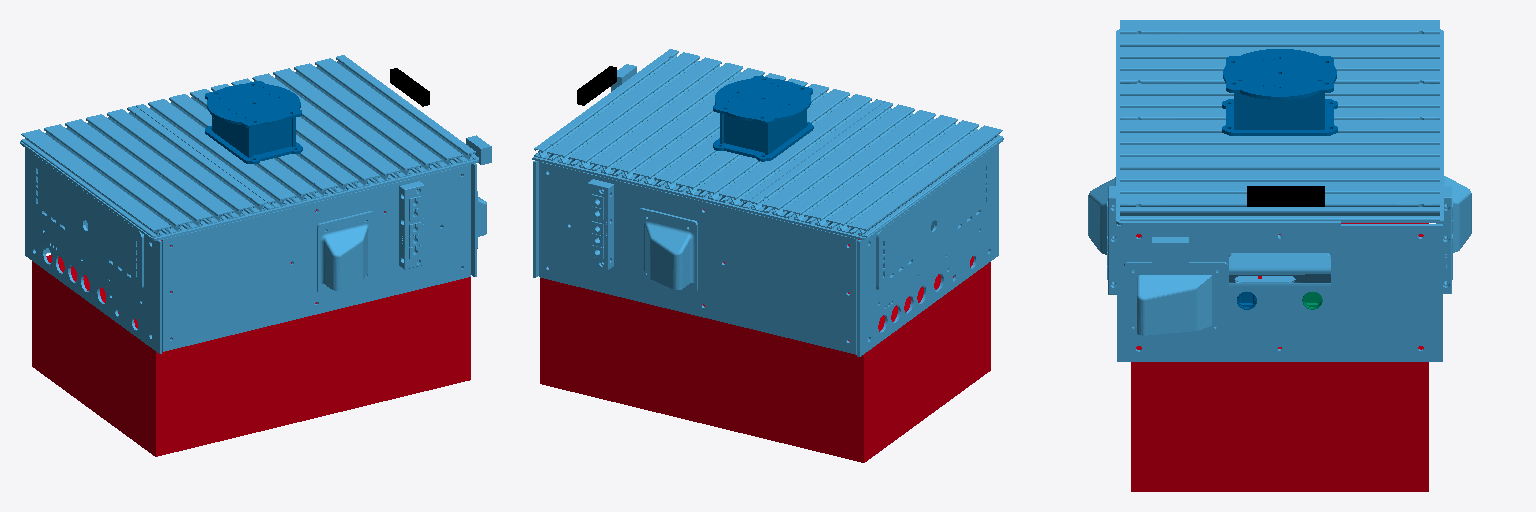
--- Facts derived from the render (not from the file) ---
3 views of the same robot in one strip: view 1: azimuth 30°, elevation 25°; view 2: azimuth 150°, elevation 25°; view 3: azimuth 270°, elevation 25° (orthographic).
Robot: smb — 25 links, 24 joints (4 continuous, 20 fixed); root link base_link; default pose: every joint at zero.
Visible links, largest first — view 1: top, base_link, lidar_mount_link, realsense_t265; view 2: top, base_link, lidar_mount_link, realsense_t265; view 3: top, base_link, lidar_mount_link, realsense_t265, mono_link.
Link boxes in pixels (left/top/right/bottom): top: left=20, top=55, right=486, bottom=353; base_link: left=32, top=209, right=470, bottom=456; lidar_mount_link: left=205, top=81, right=302, bottom=163; realsense_t265: left=390, top=68, right=429, bottom=106; top: left=532, top=49, right=1003, bottom=356; base_link: left=540, top=209, right=990, bottom=462; lidar_mount_link: left=713, top=76, right=813, bottom=161; realsense_t265: left=577, top=66, right=616, bottom=105; top: left=1088, top=20, right=1471, bottom=361; base_link: left=1131, top=223, right=1428, bottom=491; lidar_mount_link: left=1222, top=49, right=1337, bottom=135; realsense_t265: left=1247, top=186, right=1324, bottom=206; mono_link: left=1152, top=237, right=1188, bottom=262.
Bounding box of the posed robot: 0.678 × 0.5258 × 0.495 m (x, y, z).
Meshes: 8 distinct files referenced, 7 mesh visuals loaded (4 Collada DAE); not drawn: 7 (reference not matched to a file when rendering).

robot.urdf — smb:
<?xml version="1.0" ?>
<!-- =================================================================================== -->
<!-- |    This document was autogenerated by xacro from [local-path]/catkin_workspaces/smb_ws/src/smb_common/smb_description/urdf/smb_standalone.urdf.xacro | -->
<!-- |    EDITING THIS FILE BY HAND IS NOT RECOMMENDED                                 | -->
<!-- =================================================================================== -->
<robot name="smb">
  <!-- Materials -->
  <material name="black">
    <color rgba="0 0 0 1.0"/>
  </material>
  <material name="dark_grey">
    <color rgba="0 0 0 0.6078431372549019 1.0"/>
  </material>
  <material name="blue">
    <color rgba="0 0 0.7843137254901961 1.0"/>
  </material>
  <material name="green">
    <color rgba="0 0.7843137254901961 0 1.0"/>
  </material>
  <material name="grey">
    <color rgba="0.19607843137254902 0.19607843137254902 0.19607843137254902 1.0"/>
  </material>
  <material name="orange">
    <color rgba="1.0 0.4235294117647059 0.0392156862745098 1.0"/>
  </material>
  <material name="brown">
    <color rgba="0.8705882352941177 0.8117647058823529 0.7647058823529411 1.0"/>
  </material>
  <material name="red">
    <color rgba="0.7843137254901961 0 0 1.0"/>
  </material>
  <material name="white">
    <color rgba="1.0 1.0 1.0 1.0"/>
  </material>
  <!-- t265_origin_xyz is the offset to the parent link -->
  <!-- t265_origin_rpy is the fixed axis roll, pitch and yaw angle such that the resulting frame has
       the x axis pointing forward ("out of camera"),
       the y axis pointing left and the z axis pointing upward -->
  <!-- another frame "realsense_t265_odom_frame is created that is in line with the one documented here:
       https://www.intel.com/content/dam/support/us/en/documents/emerging-technologies/intel-realsense-technology/IntelRealSenseTrackingT265Datasheet.pdf -->
  <link name="base_link">
    <collision>
      <origin rpy="0 0 0" xyz="0 0 0"/>
      <geometry>
        <box size="0.605 0.41 0.197"/>
      </geometry>
    </collision>
    <visual>
      <origin rpy="0 0 0" xyz="0 0 0"/>
      <geometry>
        <box size="0.605 0.41 0.197"/>
      </geometry>
      <material name="base_material">
        <color rgba="0.8 0.0 0.1 1.0"/>
      </material>
    </visual>
  </link>
  <link name="top">
    <collision>
      <origin rpy="0 0 0" xyz="-0.07 0 0"/>
      <geometry>
        <!-- <box size="${topLength} ${topWidth} ${topHeight}"/> -->
        <mesh filename="package://smb_description/urdf/new_payload/meshes/SMB_step.dae"/>
      </geometry>
    </collision>
    <visual>
      <origin rpy="0 0 0" xyz="0 0 0"/>
      <geometry>
        <!-- <box size="${topLength} ${topWidth} ${topHeight}"/> -->
        <mesh filename="package://smb_description/urdf/new_payload/meshes/SMB_step.dae"/>
      </geometry>
    </visual>
  </link>
  <gazebo reference="top">
    <material>Gazebo/Grey</material>
  </gazebo>
  <gazebo reference="base_link">
    <material>Gazebo/Red</material>
  </gazebo>
  <joint name="top_to_base_link" type="fixed">
    <parent link="base_link"/>
    <child link="top"/>
    <!-- <origin xyz="${topXOffset/2.0} 0.0 ${chassisHeight/2.0 + topHeight/2.0}" rpy="0 0 0"/> -->
    <origin rpy="0 0 0" xyz="0.0 0.0 0.0985"/>
  </joint>
  <!-- Fixed joint to add dummy inertia link -->
  <joint name="base_to_base_inertia" type="fixed">
    <parent link="base_link"/>
    <child link="base_inertia"/>
    <origin rpy="0 0 0" xyz="0 0 0"/>
  </joint>
  <!-- Dummy inertia link, because KDL cannot have inertia on the base link -->
  <link name="base_inertia">
    <inertial>
      <origin rpy="0 0 0" xyz="0 0 0"/>
      <mass value="40"/>
      <inertia ixx="0.6896966666666665" ixy="0" ixz="0" iyy="1.3494466666666665" iyz="0" izz="1.3494466666666665"/>
    </inertial>
  </link>
  <joint name="LF_WHEEL_JOINT" type="continuous">
    <parent link="base_link"/>
    <child link="LF_WHEEL"/>
    <origin rpy="-1.5707963267948966 0 0" xyz="0.2159 0.285 -0.018500000000000003"/>
    <axis rpy="0 0 0" xyz="0 0 1"/>
    <dynamics damping="1.0" friction="0.0"/>
    <limit effort="100" velocity="10"/>
    <joint_properties damping="0.2" friction="0.2"/>
  </joint>
  <link name="LF_WHEEL">
    <collision>
      <origin rpy="0 0 0" xyz="0 0 0"/>
      <geometry>
        <cylinder length="0.01" radius="0.19"/>
      </geometry>
    </collision>
    <visual>
      <origin rpy="1.570796 0  0" xyz="0 0 0"/>
      <geometry>
        <mesh filename="package://smb_description/urdf/meshes/wheel.dae"/>
      </geometry>
    </visual>
    <inertial>
      <origin rpy="0 0 0" xyz="0 0 0"/>
      <mass value="5"/>
      <inertia ixx="0.04929166666666668" ixy="0" ixz="0" iyy="0.04929166666666668" iyz="0" izz="0.09025"/>
    </inertial>
  </link>
  <gazebo reference="LF_WHEEL">
    <mu1 value="0.5"/>
    <mu2 value="0.5"/>
    <fdir1 value="1 0 0"/>
    <kp>10000000.0</kp>
    <kd>1.0</kd>
    <minDepth>0.005</minDepth>
    <maxVel>100.0</maxVel>
    <material>Gazebo/DarkGrey</material>
  </gazebo>
  <transmission name="LF_WHEEL_TRANS">
    <type>transmission_interface/SimpleTransmission</type>
    <joint name="LF_WHEEL_JOINT">
      <hardwareInterface>hardware_interface/VelocityJointInterface</hardwareInterface>
      <hardwareInterface>hardware_interface/EffortJointInterface</hardwareInterface>
      <hardwareInterface>hardware_interface/PositionJointInterface</hardwareInterface>
    </joint>
    <actuator name="LF_WHEEL_ACTUATOR">
      <hardwareInterface>hardware_interface/VelocityJointInterface</hardwareInterface>
      <hardwareInterface>hardware_interface/EffortJointInterface</hardwareInterface>
      <hardwareInterface>hardware_interface/PositionJointInterface</hardwareInterface>
      <mechanicalReduction>1</mechanicalReduction>
    </actuator>
  </transmission>
  <joint name="RF_WHEEL_JOINT" type="continuous">
    <parent link="base_link"/>
    <child link="RF_WHEEL"/>
    <origin rpy="-1.5707963267948966 0 0" xyz="0.2159 -0.285 -0.018500000000000003"/>
    <axis rpy="0 0 0" xyz="0 0 1"/>
    <dynamics damping="1.0" friction="0.0"/>
    <limit effort="100" velocity="10"/>
    <joint_properties damping="0.2" friction="0.2"/>
  </joint>
  <link name="RF_WHEEL">
    <collision>
      <origin rpy="0 0 0" xyz="0 0 0"/>
      <geometry>
        <cylinder length="0.01" radius="0.19"/>
      </geometry>
    </collision>
    <visual>
      <origin rpy="1.570796 0  0" xyz="0 0 0"/>
      <geometry>
        <mesh filename="package://smb_description/urdf/meshes/wheel.dae"/>
      </geometry>
    </visual>
    <inertial>
      <origin rpy="0 0 0" xyz="0 0 0"/>
      <mass value="5"/>
      <inertia ixx="0.04929166666666668" ixy="0" ixz="0" iyy="0.04929166666666668" iyz="0" izz="0.09025"/>
    </inertial>
  </link>
  <gazebo reference="RF_WHEEL">
    <mu1 value="0.5"/>
    <mu2 value="0.5"/>
    <fdir1 value="1 0 0"/>
    <kp>10000000.0</kp>
    <kd>1.0</kd>
    <minDepth>0.005</minDepth>
    <maxVel>100.0</maxVel>
    <material>Gazebo/DarkGrey</material>
  </gazebo>
  <transmission name="RF_WHEEL_TRANS">
    <type>transmission_interface/SimpleTransmission</type>
    <joint name="RF_WHEEL_JOINT">
      <hardwareInterface>hardware_interface/VelocityJointInterface</hardwareInterface>
      <hardwareInterface>hardware_interface/EffortJointInterface</hardwareInterface>
      <hardwareInterface>hardware_interface/PositionJointInterface</hardwareInterface>
    </joint>
    <actuator name="RF_WHEEL_ACTUATOR">
      <hardwareInterface>hardware_interface/VelocityJointInterface</hardwareInterface>
      <hardwareInterface>hardware_interface/EffortJointInterface</hardwareInterface>
      <hardwareInterface>hardware_interface/PositionJointInterface</hardwareInterface>
      <mechanicalReduction>1</mechanicalReduction>
    </actuator>
  </transmission>
  <joint name="LH_WHEEL_JOINT" type="continuous">
    <parent link="base_link"/>
    <child link="LH_WHEEL"/>
    <origin rpy="-1.5707963267948966 0 0" xyz="-0.2159 0.285 -0.018500000000000003"/>
    <axis rpy="0 0 0" xyz="0 0 1"/>
    <dynamics damping="1.0" friction="0.0"/>
    <limit effort="100" velocity="10"/>
    <joint_properties damping="0.2" friction="0.2"/>
  </joint>
  <link name="LH_WHEEL">
    <collision>
      <origin rpy="0 0 0" xyz="0 0 0"/>
      <geometry>
        <cylinder length="0.01" radius="0.19"/>
      </geometry>
    </collision>
    <visual>
      <origin rpy="1.570796 0  0" xyz="0 0 0"/>
      <geometry>
        <mesh filename="package://smb_description/urdf/meshes/wheel.dae"/>
      </geometry>
    </visual>
    <inertial>
      <origin rpy="0 0 0" xyz="0 0 0"/>
      <mass value="5"/>
      <inertia ixx="0.04929166666666668" ixy="0" ixz="0" iyy="0.04929166666666668" iyz="0" izz="0.09025"/>
    </inertial>
  </link>
  <gazebo reference="LH_WHEEL">
    <mu1 value="0.0"/>
    <mu2 value="0.0"/>
    <fdir1 value="1 0 0"/>
    <kp>10000000.0</kp>
    <kd>1.0</kd>
    <minDepth>0.005</minDepth>
    <maxVel>100.0</maxVel>
    <material>Gazebo/DarkGrey</material>
  </gazebo>
  <transmission name="LH_WHEEL_TRANS">
    <type>transmission_interface/SimpleTransmission</type>
    <joint name="LH_WHEEL_JOINT">
      <hardwareInterface>hardware_interface/VelocityJointInterface</hardwareInterface>
      <hardwareInterface>hardware_interface/EffortJointInterface</hardwareInterface>
      <hardwareInterface>hardware_interface/PositionJointInterface</hardwareInterface>
    </joint>
    <actuator name="LH_WHEEL_ACTUATOR">
      <hardwareInterface>hardware_interface/VelocityJointInterface</hardwareInterface>
      <hardwareInterface>hardware_interface/EffortJointInterface</hardwareInterface>
      <hardwareInterface>hardware_interface/PositionJointInterface</hardwareInterface>
      <mechanicalReduction>1</mechanicalReduction>
    </actuator>
  </transmission>
  <joint name="RH_WHEEL_JOINT" type="continuous">
    <parent link="base_link"/>
    <child link="RH_WHEEL"/>
    <origin rpy="-1.5707963267948966 0 0" xyz="-0.2159 -0.285 -0.018500000000000003"/>
    <axis rpy="0 0 0" xyz="0 0 1"/>
    <dynamics damping="1.0" friction="0.0"/>
    <limit effort="100" velocity="10"/>
    <joint_properties damping="0.2" friction="0.2"/>
  </joint>
  <link name="RH_WHEEL">
    <collision>
      <origin rpy="0 0 0" xyz="0 0 0"/>
      <geometry>
        <cylinder length="0.01" radius="0.19"/>
      </geometry>
    </collision>
    <visual>
      <origin rpy="1.570796 0  0" xyz="0 0 0"/>
      <geometry>
        <mesh filename="package://smb_description/urdf/meshes/wheel.dae"/>
      </geometry>
    </visual>
    <inertial>
      <origin rpy="0 0 0" xyz="0 0 0"/>
      <mass value="5"/>
      <inertia ixx="0.04929166666666668" ixy="0" ixz="0" iyy="0.04929166666666668" iyz="0" izz="0.09025"/>
    </inertial>
  </link>
  <gazebo reference="RH_WHEEL">
    <mu1 value="0.2"/>
    <mu2 value="0.2"/>
    <fdir1 value="1 0 0"/>
    <kp>10000000.0</kp>
    <kd>1.0</kd>
    <minDepth>0.005</minDepth>
    <maxVel>100.0</maxVel>
    <material>Gazebo/DarkGrey</material>
  </gazebo>
  <transmission name="RH_WHEEL_TRANS">
    <type>transmission_interface/SimpleTransmission</type>
    <joint name="RH_WHEEL_JOINT">
      <hardwareInterface>hardware_interface/VelocityJointInterface</hardwareInterface>
      <hardwareInterface>hardware_interface/EffortJointInterface</hardwareInterface>
      <hardwareInterface>hardware_interface/PositionJointInterface</hardwareInterface>
    </joint>
    <actuator name="RH_WHEEL_ACTUATOR">
      <hardwareInterface>hardware_interface/VelocityJointInterface</hardwareInterface>
      <hardwareInterface>hardware_interface/EffortJointInterface</hardwareInterface>
      <hardwareInterface>hardware_interface/PositionJointInterface</hardwareInterface>
      <mechanicalReduction>1</mechanicalReduction>
    </actuator>
  </transmission>
  <gazebo>
    <plugin filename="libhector_gazebo_ros_imu.so" name="smb_imu_plugin">
      <updateRate>400</updateRate>
      <bodyName>imu_link</bodyName>
      <frameId>imu_link</frameId>
      <topicName>/imu0</topicName>
      <serviceName>/imu/calibrate</serviceName>
      <accelOffset>0.0 0.0 0.0</accelOffset>
      <accelDrift>0.0 0.0 0.0</accelDrift>
      <accelDriftFrequency>0.0 0.0 0.0</accelDriftFrequency>
      <accelGaussianNoise>0.0 0.0 0.0</accelGaussianNoise>
      <rateOffset>0.0 0.0 0.0</rateOffset>
      <rateDrift>0.0 0.0 0.0</rateDrift>
      <rateDriftFrequency>0.0 0.0 0.0</rateDriftFrequency>
      <rateGaussianNoise>0.0 0.0 0.0</rateGaussianNoise>
      <headingOffset>0.0</headingOffset>
      <headingDrift>0.0</headingDrift>
      <headingDriftFrequency>0.0</headingDriftFrequency>
      <headingGaussianNoise>0.0</headingGaussianNoise>
    </plugin>
  </gazebo>
  <!-- Imu is fixed to the base link -->
  <joint name="imu_joint" type="fixed">
    <origin rpy="0 0 0" xyz="0.2554 -0.02397 0.1795"/>
    <parent link="base_link"/>
    <child link="imu_link"/>
  </joint>
  <!-- Imu link -->
  <link name="imu_link">
    <inertial>
      <mass value="0.001"/>
      <origin rpy="0 0 0" xyz="0 0 0"/>
      <inertia ixx="0.0001" ixy="0" ixz="0" iyy="0.000001" iyz="0" izz="0.0001"/>
    </inertial>
    <visual>
      <origin rpy="0 0 0" xyz="0 0 0"/>
      <geometry>
        <!-- <box size="0.04 0.05 0.02"/> -->
        <mesh filename="package://smb_description/urdf/new_payload/meshes/SMB_imu.dae"/>
      </geometry>
    </visual>
    <collision>
      <origin rpy="0 0 0" xyz="0 0 0"/>
      <geometry>
        <!-- <box size=".001 .001 .001"/> -->
        <mesh filename="package://smb_description/urdf/new_payload/meshes/SMB_imu.dae"/>
      </geometry>
    </collision>
    <material name="orange">
      <color rgba="255 108 10 255"/>
    </material>
  </link>
  <link name="imu">
    <inertial>
      <mass value="0.001"/>
      <origin rpy="0 0 0" xyz="0 0 0"/>
      <inertia ixx="0.0001" ixy="0" ixz="0" iyy="0.000001" iyz="0" izz="0.0001"/>
    </inertial>
  </link>
  <joint name="imu_imu_link_joint" type="fixed">
    <origin rpy="0 0 0" xyz="0 0 0"/>
    <parent link="imu_link"/>
    <child link="imu"/>
  </joint>
  <gazebo reference="imu_link">
    <material>Gazebo/Orange</material>
  </gazebo>
  <gazebo reference="imu_joint">
    <disableFixedJointLumping>true</disableFixedJointLumping>
  </gazebo>
  <!-- <xacro:GPS base_link="${base_link_name}" simulation="${simulation}"/> -->
  <link name="mono_link">
    <inertial>
      <mass value="0.01"/>
      <!-- [kg] -->
      <inertia ixx="1e-5" ixy="0" ixz="0" iyy="1e-5" iyz="0" izz="1e-5"/>
    </inertial>
    <visual>
      <geometry>
        <box size="0.02 0.05 0.03"/>
      </geometry>
    </visual>
    <collision>
      <geometry>
        <box size="0.02 0.05 0.03"/>
      </geometry>
    </collision>
    <material name="red">
      <color rgba="255 0 10 255"/>
    </material>
  </link>
  <gazebo reference="mono_link">
    <material>Gazebo/Red</material>
  </gazebo>
  <joint name="mono_camera_joint" type="fixed">
    <origin rpy="0 0 0" xyz="0.35 -0.15 0.29"/>
    <parent link="base_link"/>
    <child link="mono_link"/>
  </joint>
  <gazebo reference="mono_camera_joint">
    <disableFixedJointLumping>true</disableFixedJointLumping>
  </gazebo>
  <gazebo reference="mono_link">
    <sensor name="mono_cam" type="camera">
      <pose>0 0 0 0 0 0</pose>
      <visualize>false</visualize>
      <update_rate>30</update_rate>
      <camera>
        <horizontal_fov>1.3962634</horizontal_fov>
        <!-- 80 deg-->
         &gt;
          
        <image>
          <width>640</width>
          <height>480</height>
          <format>R8G8B8</format>
        </image>
        <clip>
          <near>0.01</near>
          <far>100</far>
        </clip>
        <noise>
          <type>gaussian</type>
          <!-- Noise parameters based on published spec for Hokuyo laser
                achieving "+-30mm" accuracy at range < 10m.  A mean of 0.0m and
                stddev of 0.01m will put 99.7% of samples within 0.03m of the true
                reading. -->
          <mean>0.0</mean>
          <stddev>0.007</stddev>
        </noise>
      </camera>
      <plugin filename="libgazebo_ros_camera.so" name="gazebo_ros_camera_controller">
        <alwaysOn>true</alwaysOn>
        <updateRate>0.0</updateRate>
        <cameraName>mono_cam</cameraName>
        <imageTopicName>/mono/cam0/image_raw</imageTopicName>
        <cameraInfoTopicName>camera_info</cameraInfoTopicName>
        <frameName>mono_link</frameName>
        <hackBaseline>0.07</hackBaseline>
        <distortionK1>0.0</distortionK1>
        <distortionK2>0.0</distortionK2>
        <distortionK3>0.0</distortionK3>
        <distortionT1>0.0</distortionT1>
        <distortionT2>0.0</distortionT2>
      </plugin>
    </sensor>
  </gazebo>
  <link name="blackfly0_link">
    <inertial>
      <mass value="0.01"/>
      <!-- [kg] -->
      <inertia ixx="1e-5" ixy="0" ixz="0" iyy="1e-5" iyz="0" izz="1e-5"/>
    </inertial>
    <visual>
      <geometry>
        <mesh filename="package://smb_description/urdf/new_payload/meshes/SMB_blackfly_camera.dae"/>
      </geometry>
    </visual>
    <collision>
      <geometry>
        <mesh filename="package://smb_description/urdf/new_payload/meshes/SMB_blackfly_camera.dae"/>
      </geometry>
    </collision>
    <material name="red">
      <color rgba="255 0 10 255"/>
    </material>
  </link>
  <gazebo reference="blackfly0_link">
    <material>Gazebo/Red</material>
  </gazebo>
  <joint name="blackfly0_camera_joint" type="fixed">
    <!-- <origin xyz="${blackfly_origin_xyz}" rpy="${blackfly_origin_rpy}"/> -->
    <origin rpy="0 0 0" xyz="0.29082 0.04458 0.194"/>
    <parent link="base_link"/>
    <child link="blackfly0_link"/>
  </joint>
  <gazebo reference="blackfly0_camera_joint">
    <disableFixedJointLumping>true</disableFixedJointLumping>
  </gazebo>
  <link name="blackfly0_optical_link"/>
  <joint name="blackfly0_camera_optical_joint" type="fixed">
    <origin rpy="-1.57 0 -1.57" xyz="0.0066 0 0"/>
    <parent link="blackfly0_link"/>
    <child link="blackfly0_optical_link"/>
  </joint>
  <gazebo reference="blackfly0_link">
    <sensor name="blackfly0_cam" type="camera">
      <pose>0.0066 0 0 0 0 0</pose>
      <visualize>false</visualize>
      <update_rate>30</update_rate>
      <camera>
        <horizontal_fov>1.3962634</horizontal_fov>
        <!-- 80 deg-->
         &gt;
          
        <image>
          <width>720</width>
          <height>540</height>
          <format>R8G8B8</format>
        </image>
        <clip>
          <near>0.01</near>
          <far>100</far>
        </clip>
        <noise>
          <type>gaussian</type>
          <!-- Noise parameters based on published spec for Hokuyo laser
                achieving "+-30mm" accuracy at range < 10m.  A mean of 0.0m and
                stddev of 0.01m will put 99.7% of samples within 0.03m of the true
                reading. -->
          <mean>0.0</mean>
          <stddev>0.007</stddev>
        </noise>
      </camera>
      <plugin filename="libgazebo_ros_camera.so" name="gazebo_ros_camera_controller">
        <alwaysOn>true</alwaysOn>
        <updateRate>0.0</updateRate>
        <cameraName>blackfly0_cam</cameraName>
        <imageTopicName>/blackfly0/color/image_raw</imageTopicName>
        <cameraInfoTopicName>/blackfly0/color/camera_info</cameraInfoTopicName>
        <frameName>blackfly0_optical_link</frameName>
        <hackBaseline>0.07</hackBaseline>
        <distortionK1>0.0</distortionK1>
        <distortionK2>0.0</distortionK2>
        <distortionK3>0.0</distortionK3>
        <distortionT1>0.0</distortionT1>
        <distortionT2>0.0</distortionT2>
      </plugin>
    </sensor>
  </gazebo>
  <link name="blackfly1_link">
    <inertial>
      <mass value="0.01"/>
      <!-- [kg] -->
      <inertia ixx="1e-5" ixy="0" ixz="0" iyy="1e-5" iyz="0" izz="1e-5"/>
    </inertial>
    <visual>
      <geometry>
        <mesh filename="package://smb_description/urdf/new_payload/meshes/SMB_blackfly_camera.dae"/>
      </geometry>
    </visual>
    <collision>
      <geometry>
        <mesh filename="package://smb_description/urdf/new_payload/meshes/SMB_blackfly_camera.dae"/>
      </geometry>
    </collision>
    <material name="red">
      <color rgba="255 0 10 255"/>
    </material>
  </link>
  <gazebo reference="blackfly1_link">
    <material>Gazebo/Red</material>
  </gazebo>
  <joint name="blackfly1_camera_joint" type="fixed">
    <!-- <origin xyz="${blackfly_origin_xyz}" rpy="${blackfly_origin_rpy}"/> -->
    <origin rpy="0 0 0" xyz="0.29082 -0.04542 0.194"/>
    <parent link="base_link"/>
    <child link="blackfly1_link"/>
  </joint>
  <gazebo reference="blackfly1_camera_joint">
    <disableFixedJointLumping>true</disableFixedJointLumping>
  </gazebo>
  <link name="blackfly1_optical_link"/>
  <joint name="blackfly1_camera_optical_joint" type="fixed">
    <origin rpy="-1.57 0 -1.57" xyz="0.0066 0 0"/>
    <parent link="blackfly1_link"/>
    <child link="blackfly1_optical_link"/>
  </joint>
  <gazebo reference="blackfly1_link">
    <sensor name="blackfly1_cam" type="camera">
      <pose>0.0066 0 0 0 0 0</pose>
      <visualize>false</visualize>
      <update_rate>30</update_rate>
      <camera>
        <horizontal_fov>1.3962634</horizontal_fov>
        <!-- 80 deg-->
         &gt;
          
        <image>
          <width>720</width>
          <height>540</height>
          <format>R8G8B8</format>
        </image>
        <clip>
          <near>0.01</near>
          <far>100</far>
        </clip>
        <noise>
          <type>gaussian</type>
          <!-- Noise parameters based on published spec for Hokuyo laser
                achieving "+-30mm" accuracy at range < 10m.  A mean of 0.0m and
                stddev of 0.01m will put 99.7% of samples within 0.03m of the true
                reading. -->
          <mean>0.0</mean>
          <stddev>0.007</stddev>
        </noise>
      </camera>
      <plugin filename="libgazebo_ros_camera.so" name="gazebo_ros_camera_controller">
        <alwaysOn>true</alwaysOn>
        <updateRate>0.0</updateRate>
        <cameraName>blackfly1_cam</cameraName>
        <imageTopicName>/blackfly1/color/image_raw</imageTopicName>
        <cameraInfoTopicName>/blackfly1/color/camera_info</cameraInfoTopicName>
        <frameName>blackfly1_optical_link</frameName>
        <hackBaseline>0.07</hackBaseline>
        <distortionK1>0.0</distortionK1>
        <distortionK2>0.0</distortionK2>
        <distortionK3>0.0</distortionK3>
        <distortionT1>0.0</distortionT1>
        <distortionT2>0.0</distortionT2>
      </plugin>
    </sensor>
  </gazebo>
  <link name="blackfly_left_link">
    <inertial>
      <mass value="0.01"/>
      <!-- [kg] -->
      <inertia ixx="1e-5" ixy="0" ixz="0" iyy="1e-5" iyz="0" izz="1e-5"/>
    </inertial>
    <visual>
      <geometry>
        <mesh filename="package://smb_description/urdf/new_payload/meshes/SMB_blackfly_camera.dae"/>
      </geometry>
    </visual>
    <collision>
      <geometry>
        <mesh filename="package://smb_description/urdf/new_payload/meshes/SMB_blackfly_camera.dae"/>
      </geometry>
    </collision>
    <material name="red">
      <color rgba="255 0 10 255"/>
    </material>
  </link>
  <gazebo reference="blackfly_left_link">
    <material>Gazebo/Red</material>
  </gazebo>
  <link name="blackfly_right_link">
    <inertial>
      <mass value="0.01"/>
      <!-- [kg] -->
      <inertia ixx="1e-5" ixy="0" ixz="0" iyy="1e-5" iyz="0" izz="1e-5"/>
    </inertial>
    <visual>
      <geometry>
        <mesh filename="package://smb_description/urdf/new_payload/meshes/SMB_blackfly_camera.dae"/>
      </geometry>
    </visual>
    <collision>
      <geometry>
        <mesh filename="package://smb_description/urdf/new_payload/meshes/SMB_blackfly_camera.dae"/>
      </geometry>
    </collision>
    <material name="red">
      <color rgba="255 0 10 255"/>
    </material>
  </link>
  <gazebo reference="blackfly_right_link">
    <material>Gazebo/Red</material>
  </gazebo>
  <joint name="blackfly_left_camera_joint" type="fixed">
    <origin rpy="0 0 0" xyz="0.29082 0.04458 0.194"/>
    <parent link="base_link"/>
    <child link="blackfly_left_link"/>
  </joint>
  <gazebo reference="blackfly_left_camera_joint">
    <disableFixedJointLumping>true</disableFixedJointLumping>
  </gazebo>
  <joint name="blackfly_right_camera_joint" type="fixed">
    <origin rpy="0 0 0" xyz="0.29082 -0.04542 0.194"/>
    <parent link="base_link"/>
    <child link="blackfly_right_link"/>
  </joint>
  <gazebo reference="blackfly_right_camera_joint">
    <disableFixedJointLumping>true</disableFixedJointLumping>
  </gazebo>
  <link name="blackfly_left_optical_link"/>
  <link name="blackfly_right_optical_link"/>
  <joint name="blackfly_left_camera_optical_joint" type="fixed">
    <origin rpy="-1.57 0 -1.57" xyz="0.0066 0 0"/>
    <parent link="blackfly_left_link"/>
    <child link="blackfly_left_optical_link"/>
  </joint>
  <joint name="blackfly_right_camera_optical_joint" type="fixed">
    <origin rpy="-1.57 0 -1.57" xyz="0.0066 0 0"/>
    <parent link="blackfly_right_link"/>
    <child link="blackfly_right_optical_link"/>
  </joint>
  <gazebo reference="blackfly_left_link">
    <sensor name="blackfly_stereo_cam" type="multicamera">
      <visualize>false</visualize>
      <update_rate>30</update_rate>
      <camera name="left">
        <pose>0.0066 0 0 0 0 0</pose>
        <horizontal_fov>1.3962634</horizontal_fov>
        <!-- 80 deg-->
         &gt;
          
        <image>
          <width>720</width>
          <height>540</height>
          <format>R8G8B8</format>
        </image>
        <clip>
          <near>0.01</near>
          <far>300</far>
        </clip>
        <noise>
          <type>gaussian</type>
          <!-- Noise parameters based on published spec for Hokuyo laser
                achieving "+-30mm" accuracy at range < 10m.  A mean of 0.0m and
                stddev of 0.01m will put 99.7% of samples within 0.03m of the true
                reading. -->
          <mean>0.0</mean>
          <stddev>0.007</stddev>
        </noise>
      </camera>
      <camera name="right">
        <pose>0.0066 -0.09 0 0 0 0</pose>
        <horizontal_fov>1.3962634</horizontal_fov>
        <!-- 80 deg-->
         &gt;
          
        <image>
          <width>720</width>
          <height>540</height>
          <format>R8G8B8</format>
        </image>
        <clip>
          <near>0.01</near>
          <far>300</far>
        </clip>
        <noise>
          <type>gaussian</type>
          <!-- Noise parameters based on published spec for Hokuyo laser
                achieving "+-30mm" accuracy at range < 10m.  A mean of 0.0m and
                stddev of 0.01m will put 99.7% of samples within 0.03m of the true
                reading. -->
          <mean>0.0</mean>
          <stddev>0.007</stddev>
        </noise>
      </camera>
      <plugin filename="libgazebo_ros_multicamera.so" name="stereo_camera_controller">
        <alwaysOn>true</alwaysOn>
        <updateRate>0.0</updateRate>
        <cameraName>blackfly_stereo_cam</cameraName>
        <imageTopicName>image_raw</imageTopicName>
        <cameraInfoTopicName>camera_info</cameraInfoTopicName>
        <frameName>blackfly_left_optical_link</frameName>
        <hackBaseline>0.09</hackBaseline>
        <distortionK1>0.0</distortionK1>
        <distortionK2>0.0</distortionK2>
        <distortionK3>0.0</distortionK3>
        <distortionT1>0.0</distortionT1>
        <distortionT2>0.0</distortionT2>
      </plugin>
    </sensor>
  </gazebo>
  <joint name="rslidar_base_mount_joint" type="fixed">
    <origin rpy="0 0 1.5707963267948966" xyz="0.00445 0 0.39649999999999996"/>
    <parent link="base_link"/>
    <child link="rslidar_base_link"/>
  </joint>
  <link name="rslidar_base_link">
    <inertial>
      <mass value="0.83"/>
      <origin xyz="0 0 0.03585"/>
      <inertia ixx="0.000908059425" ixy="0" ixz="0" iyy="0.000908059425" iyz="0" izz="0.0011049624"/>
    </inertial>
    <visual>
      <geometry>
        <mesh filename="package://velodyne_description/meshes/VLP16_base_1.dae"/>
      </geometry>
    </visual>
    <visual>
      <geometry>
        <mesh filename="package://velodyne_description/meshes/VLP16_base_2.dae"/>
      </geometry>
    </visual>
    <collision>
      <origin rpy="0 0 0" xyz="0 0 0.03585"/>
      <geometry>
        <cylinder length="0.0717" radius="0.0516"/>
      </geometry>
    </collision>
  </link>
  <joint name="rslidar_base_scan_joint" type="fixed">
    <origin rpy="0 0 0" xyz="0 0 0.0377"/>
    <parent link="rslidar_base_link"/>
    <child link="rslidar"/>
  </joint>
  <link name="rslidar">
    <inertial>
      <mass value="0.01"/>
      <origin xyz="0 0 0"/>
      <inertia ixx="1e-7" ixy="0" ixz="0" iyy="1e-7" iyz="0" izz="1e-7"/>
    </inertial>
    <visual>
      <origin xyz="0 0 -0.0377"/>
      <geometry>
        <mesh filename="package://velodyne_description/meshes/VLP16_scan.dae"/>
      </geometry>
    </visual>
  </link>
  <!-- Gazebo requires the velodyne_gazebo_plugins package -->
  <gazebo reference="rslidar">
    <sensor name="rslidar-VLP16" type="ray">
      <pose>0 0 0 0 0 0</pose>
      <visualize>false</visualize>
      <update_rate>10</update_rate>
      <ray>
        <scan>
          <horizontal>
            <samples>440</samples>
            <resolution>1</resolution>
            <min_angle>-3.141592653589793</min_angle>
            <max_angle>3.141592653589793</max_angle>
          </horizontal>
          <vertical>
            <samples>16</samples>
            <resolution>1</resolution>
            <min_angle>-0.2617993877991494</min_angle>
            <max_angle> 0.2617993877991494</max_angle>
          </vertical>
        </scan>
        <range>
          <min>0.3</min>
          <max>131.0</max>
          <resolution>0.001</resolution>
        </range>
        <noise>
          <type>gaussian</type>
          <mean>0.0</mean>
          <stddev>0.0</stddev>
        </noise>
      </ray>
      <plugin filename="libgazebo_ros_velodyne_laser.so" name="gazebo_ros_laser_controller">
        <topicName>/rslidar_points</topicName>
        <frameName>rslidar</frameName>
        <organize_cloud>False</organize_cloud>
        <min_range>0.9</min_range>
        <max_range>130.0</max_range>
        <gaussianNoise>0.008</gaussianNoise>
      </plugin>
    </sensor>
  </gazebo>
  <gazebo reference="rslidar_base_mount_joint">
    <preserveFixedJoint>true</preserveFixedJoint>
  </gazebo>
  <gazebo reference="rslidar_base_scan_joint">
    <preserveFixedJoint>true</preserveFixedJoint>
  </gazebo>
  <gazebo>
    <plugin filename="libodometry_source_plugin.so" name="smb_odometry_plugin">
      <robotNamespace>smb</robotNamespace>
      <bodyName>rslidar</bodyName>
      <topicName>/rslidar_ground_truth</topicName>
      <odomFrame>map</odomFrame>
      <childOdomFrame>lidar</childOdomFrame>
      <publishTf>False</publishTf>
      <xyzOffset>0 0 0</xyzOffset>
      <rpyOffset>0 0 0</rpyOffset>
      <gaussianNoise>0</gaussianNoise>
      <updateRate>20</updateRate>
      <maxLinearSpeedBeforeSettle>0.001</maxLinearSpeedBeforeSettle>
      <maxAngularSpeedBeforeSettle>0.001</maxAngularSpeedBeforeSettle>
    </plugin>
  </gazebo>
  <link name="lidar_mount_link">
    <visual>
      <geometry>
        <mesh filename="package://smb_description/urdf/new_payload/meshes/SMB_lidar_mount.dae"/>
      </geometry>
    </visual>
    <inertial>
      <origin rpy="0 0 0" xyz="0 0 0"/>
      <mass value="1e-4"/>
      <inertia ixx="3.3333333333333334e-13" ixy="0" ixz="0" iyy="3.3333333333333334e-13" iyz="0" izz="5e-13"/>
    </inertial>
  </link>
  <gazebo reference="lidar_mount_link">
    <material>Gazebo/Grey</material>
  </gazebo>
  <joint name="lidar_mount_joint" type="fixed">
    <origin rpy="0 0 0" xyz="0.00445 0 0.3265"/>
    <parent link="base_link"/>
    <child link="lidar_mount_link"/>
  </joint>
  <gazebo reference="lidar_mount_joint">
    <disableFixedJointLumping>true</disableFixedJointLumping>
  </gazebo>
  <link name="realsense_t265">
    <inertial>
      <mass value="0.001"/>
      <origin rpy="0 0 0" xyz="0 0 0"/>
      <inertia ixx="0.0001" ixy="0" ixz="0" iyy="0.000001" iyz="0" izz="0.0001"/>
    </inertial>
    <collision>
      <origin rpy="0 0 0" xyz="0 0 0"/>
      <geometry>
        <box size="0.013 0.108 0.025"/>
      </geometry>
    </collision>
    <visual>
      <origin rpy="0 0 0" xyz="0 0 0"/>
      <geometry>
        <box size="0.013 0.108 0.025"/>
      </geometry>
      <material name="black"/>
    </visual>
  </link>
  <gazebo reference="realsense_t265">
    <material>Gazebo/Black</material>
  </gazebo>
  <joint name="realsense_t265_joint" type="fixed">
    <parent link="imu_link"/>
    <child link="realsense_t265"/>
    <!-- <origin xyz="-${chassisLength/2.0+realsense_t265_width} 0.0 ${chassisHeight*0.5+realsense_t265_height*0.5}" rpy="0 0 ${PI}" /> -->
    <!-- Manually calibrated sensor orientation  -->
    <origin rpy="0 0 0" xyz="0.0537 0.0321 0.172"/>
  </joint>
  <joint name="camera_pose_frame_joint" type="fixed">
    <parent link="realsense_t265"/>
    <child link="camera_pose_frame"/>
    <origin rpy="0 0 0" xyz="0 0 0"/>
  </joint>
  <link name="camera_pose_frame"/>
  <link name="realsense_t265_odom_frame"/>
  <joint name="realsense_t265_odom_joint" type="fixed">
    <parent link="realsense_t265"/>
    <child link="realsense_t265_odom_frame"/>
    <origin rpy="1.5707963267948966 0 -1.5707963267948966" xyz="0 0.0091 0 "/>
  </joint>
  <link name="camera_imu_optical_frame"/>
  <joint name="realsense_t265_imu_joint" type="fixed">
    <parent link="realsense_t265_odom_frame"/>
    <child link="camera_imu_optical_frame"/>
    <origin rpy="0 3.141592653589793 0" xyz="0 0 0 "/>
  </joint>
  <gazebo>
    <plugin filename="libodometry_source_plugin.so" name="smb_odometry_plugin">
      <robotNamespace>smb</robotNamespace>
      <bodyName>realsense_t265</bodyName>
      <topicName>/camera/odom/sample</topicName>
      <odomFrame>camera_odom_frame</odomFrame>
      <childOdomFrame>camera_pose_frame</childOdomFrame>
      <publishTf>False</publishTf>
      <xyzOffset>0 0 0</xyzOffset>
      <rpyOffset>0 0 0</rpyOffset>
      <gaussianNoise>0</gaussianNoise>
      <updateRate>200</updateRate>
      <maxLinearSpeedBeforeSettle>0.01</maxLinearSpeedBeforeSettle>
      <maxAngularSpeedBeforeSettle>0.05</maxAngularSpeedBeforeSettle>
    </plugin>
  </gazebo>
  <gazebo reference="realsense_t265_joint">
    <disableFixedJointLumping>true</disableFixedJointLumping>
  </gazebo>
</robot>
